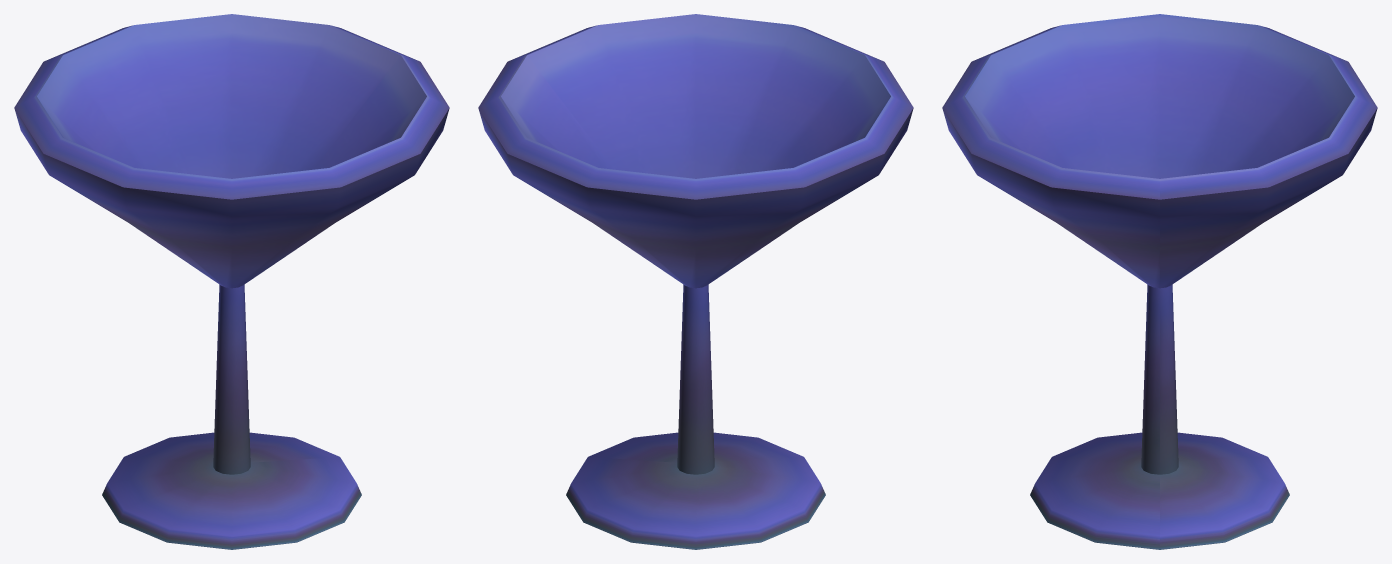
Rendered from drinks_1_glass.DAE.
3 views of the same model, side by side, from view 1: azimuth 30°, elevation 25°; view 2: azimuth 150°, elevation 25°; view 3: azimuth 270°, elevation 25° (orthographic).
Visible parts, largest first — view 1: Cylinder01; view 2: Cylinder01; view 3: Cylinder01.
Part boxes in pixels (x1,y1,x2,y2): Cylinder01: [14, 14, 449, 549]; Cylinder01: [478, 14, 913, 549]; Cylinder01: [942, 14, 1377, 549].
Size of the model in its own units: 0.3905 by 0.3943 by 0.3905.
